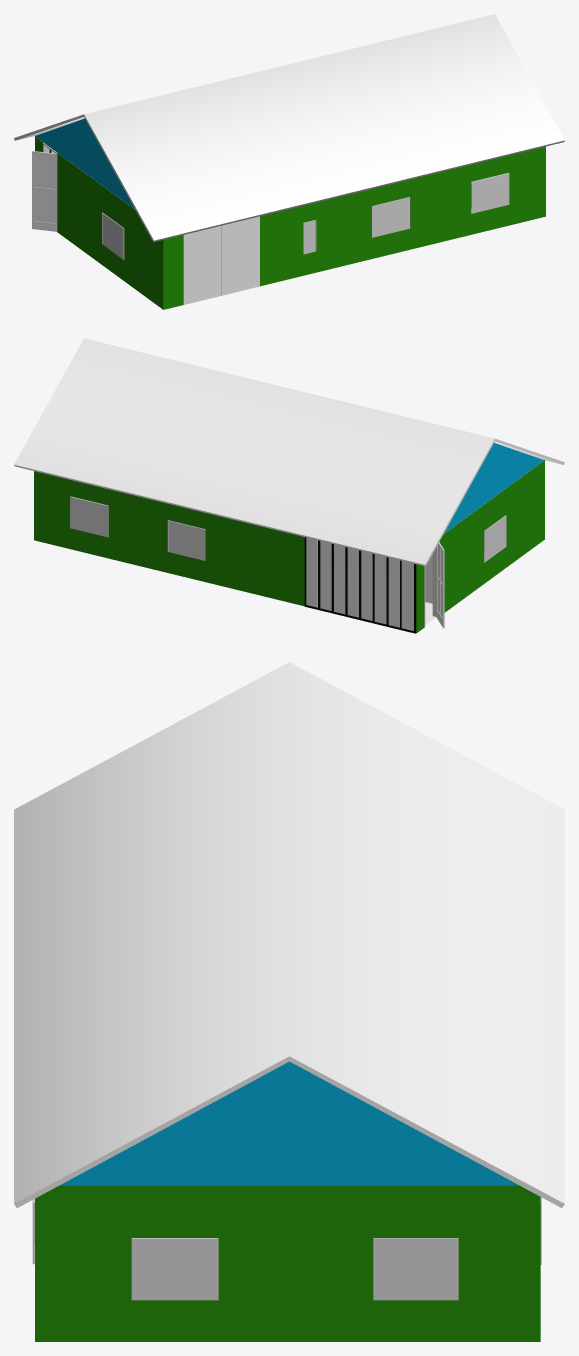
File: House.FBX
3 renders of one model, top to bottom at view 1: azimuth 30°, elevation 25°; view 2: azimuth 150°, elevation 25°; view 3: azimuth 270°, elevation 25°, orthographic. The views are drawn at different scales.
Parts seen in each view (by area): view 1: Plane002, Rectangle001, Plane003, Box001, Box002, PivotDoor006, FixedWindow002, FixedWindow001, FixedWindow005, FixedWindow008; view 2: Plane002, Rectangle001, Plane003, Line008, FixedWindow007, FixedWindow006, PivotDoor006, Box018, Box016, Box011, Box014, Box017 (+4 smaller); view 3: Plane002, Rectangle001, Plane004, FixedWindow003, FixedWindow004.
Part boxes in pixels (x1=…): Plane002: x1=14, y1=14, x2=564, y2=242; Rectangle001: x1=35, y1=137, x2=545, y2=309; Plane003: x1=35, y1=118, x2=134, y2=209; Box001: x1=183, y1=225, x2=221, y2=304; Box002: x1=221, y1=216, x2=259, y2=295; PivotDoor006: x1=32, y1=143, x2=57, y2=232; FixedWindow002: x1=471, y1=173, x2=509, y2=213; FixedWindow001: x1=372, y1=197, x2=410, y2=237; FixedWindow005: x1=102, y1=212, x2=124, y2=259; FixedWindow008: x1=303, y1=220, x2=316, y2=254; Plane002: x1=14, y1=338, x2=564, y2=566; Rectangle001: x1=34, y1=460, x2=544, y2=633; Plane003: x1=444, y1=443, x2=544, y2=533; Line008: x1=304, y1=537, x2=411, y2=632; FixedWindow007: x1=70, y1=496, x2=108, y2=537; FixedWindow006: x1=167, y1=520, x2=205, y2=560; PivotDoor006: x1=424, y1=542, x2=444, y2=628; Box018: x1=401, y1=561, x2=413, y2=630; Box016: x1=374, y1=554, x2=386, y2=624; Box011: x1=306, y1=537, x2=317, y2=607; Box014: x1=347, y1=547, x2=358, y2=617; Box017: x1=388, y1=557, x2=399, y2=627; Plane002: x1=14, y1=662, x2=564, y2=1207; Rectangle001: x1=35, y1=1185, x2=540, y2=1341; Plane004: x1=59, y1=1061, x2=519, y2=1185; FixedWindow003: x1=131, y1=1238, x2=218, y2=1300; FixedWindow004: x1=373, y1=1238, x2=458, y2=1300.
Size of the model in its own units: 641 by 226 by 378.
